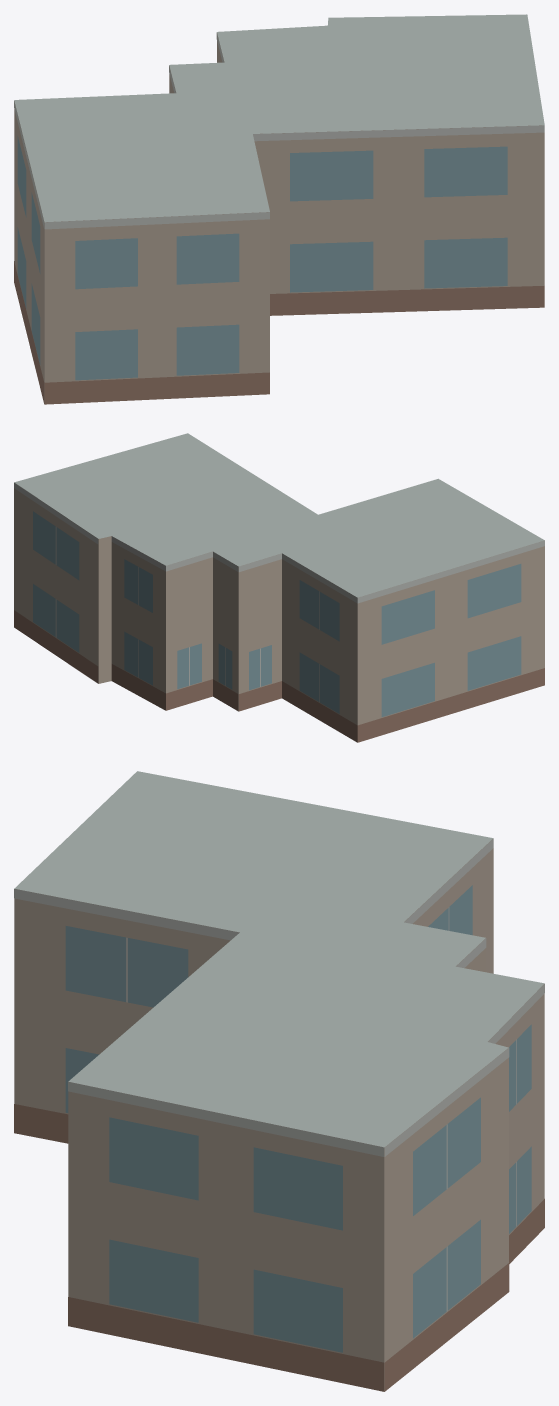
File: survey-upis-32810572.glb
The picture shows the model from 3 angles, top to bottom: view 1: azimuth 30°, elevation 25°; view 2: azimuth 150°, elevation 25°; view 3: azimuth 270°, elevation 25°; orthographic projection. The views are drawn at different scales.
Visible parts, largest first — view 1: survey-upis-32810572.tmp; view 2: survey-upis-32810572.tmp; view 3: survey-upis-32810572.tmp.
Part boxes in pixels (x1,y1,x2,y2): survey-upis-32810572.tmp: [14, 14, 544, 404]; survey-upis-32810572.tmp: [14, 433, 544, 742]; survey-upis-32810572.tmp: [14, 771, 544, 1391].
Bounding box in the file's own units: 20.15 × 6.1 × 12.01.
